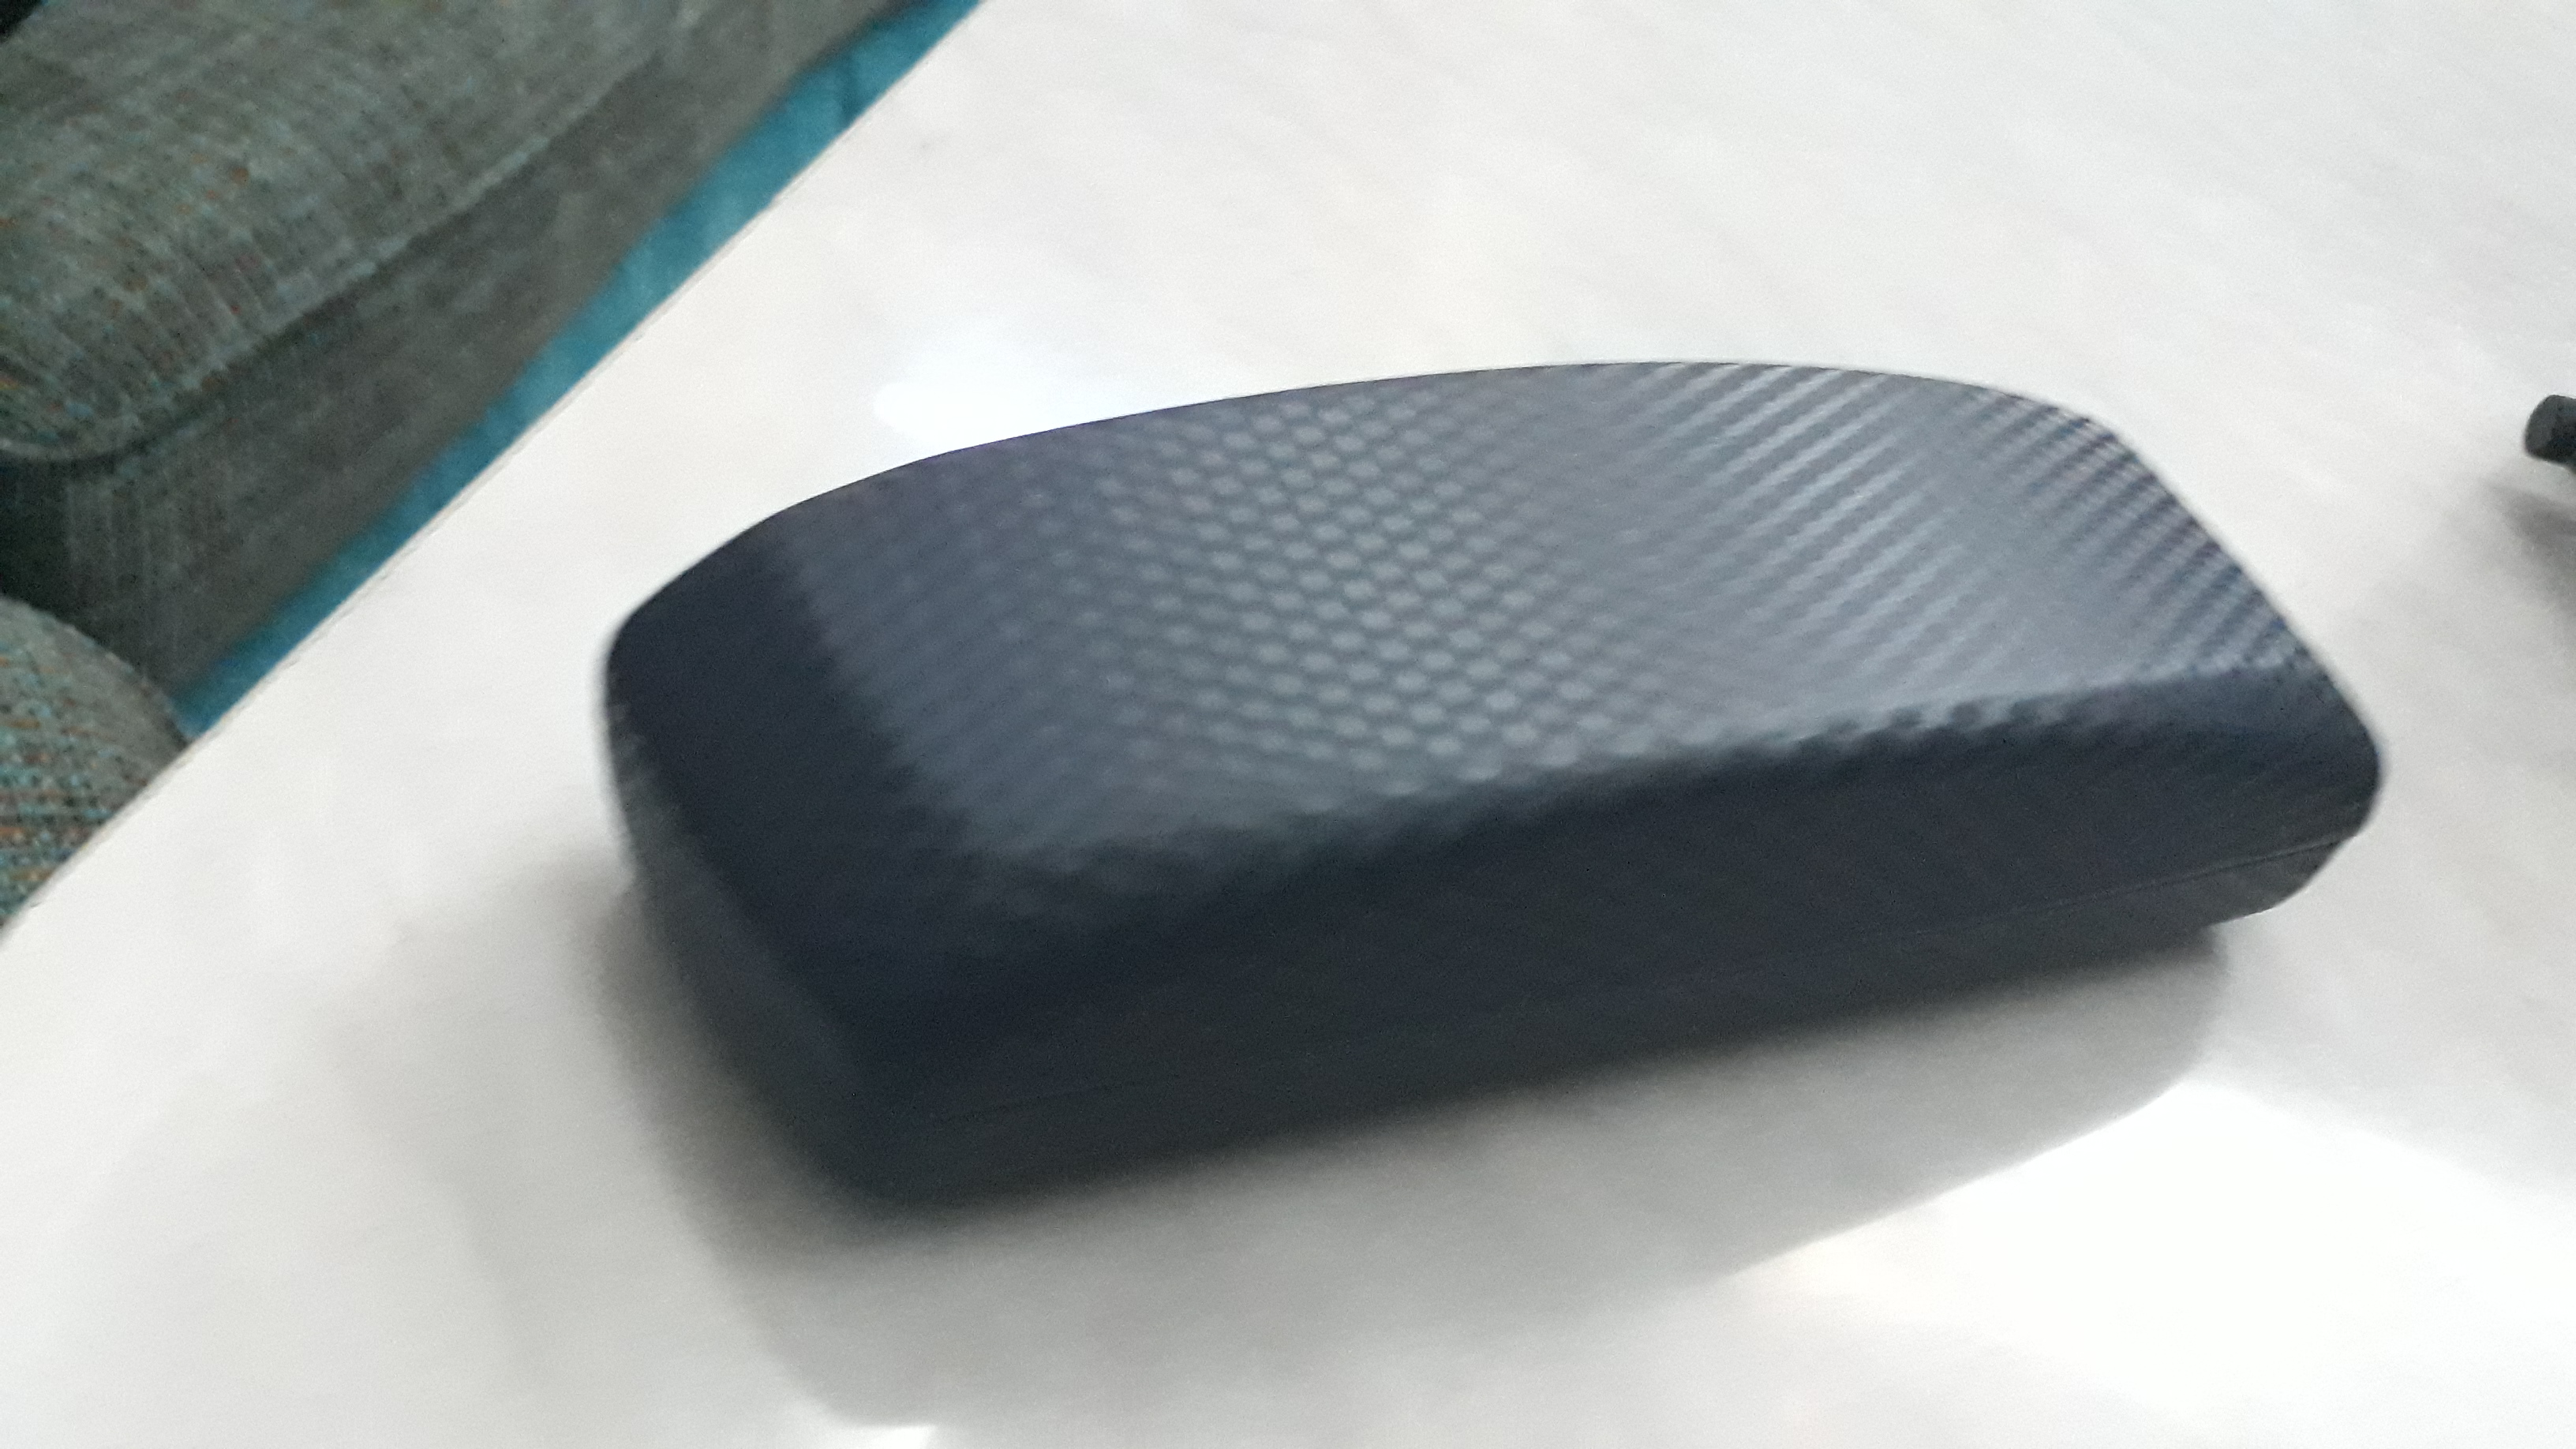nadar: (547, 290, 2388, 1221)
